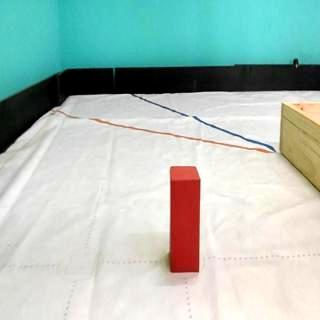redbox: (170, 166, 200, 272)
